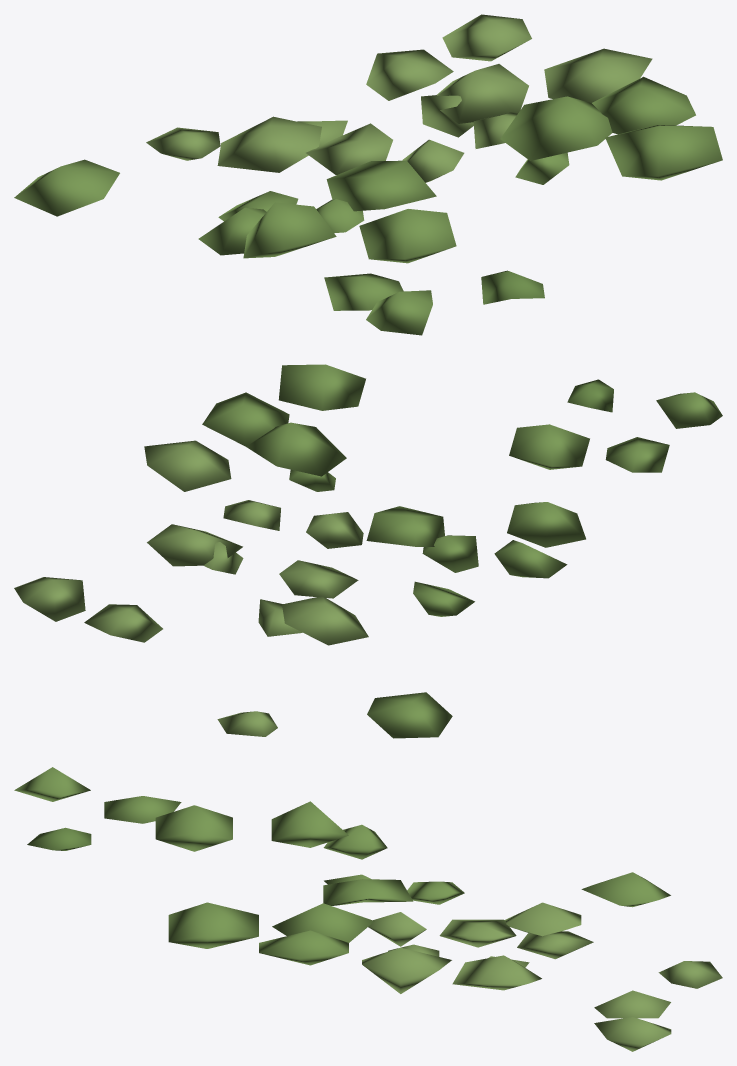
Rendered from canopy-2-0--4.glb.
The picture shows the model from 3 angles, top to bottom: view 1: azimuth 30°, elevation 25°; view 2: azimuth 150°, elevation 25°; view 3: azimuth 270°, elevation 25°; orthographic projection. The views are drawn at different scales.
Size of the model in its own units: 97.5 by 35 by 138.
1 material, 1 textured.
